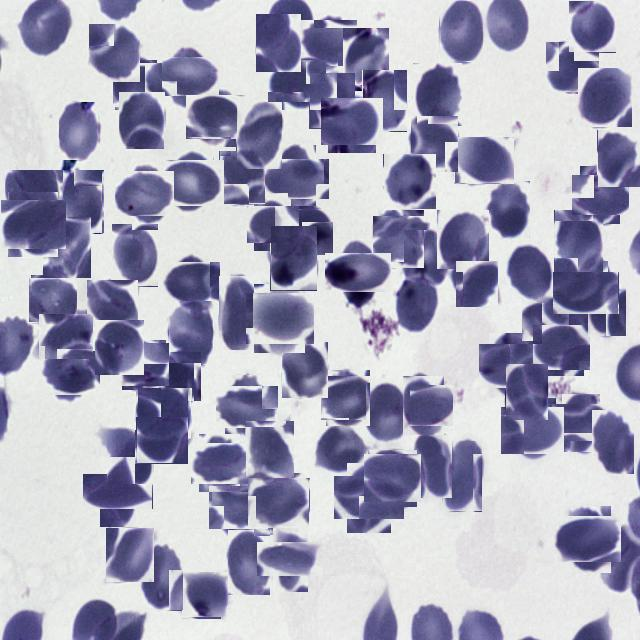red blood cell: (250, 288, 310, 348), (5, 170, 63, 232), (340, 469, 398, 526), (559, 511, 616, 568), (5, 196, 62, 253), (578, 68, 632, 127), (163, 155, 219, 211), (252, 476, 308, 532), (504, 402, 560, 458), (324, 94, 380, 150), (236, 102, 282, 170), (413, 63, 462, 126), (554, 210, 603, 273), (88, 24, 140, 83), (437, 210, 489, 269), (270, 226, 317, 291), (139, 542, 183, 611), (484, 338, 538, 393), (560, 266, 614, 321), (383, 154, 436, 210), (111, 224, 158, 287), (43, 217, 91, 278), (245, 421, 294, 480), (168, 301, 213, 365), (374, 212, 428, 265), (442, 441, 482, 512), (454, 137, 514, 184), (219, 276, 257, 350), (366, 452, 419, 505), (270, 152, 322, 206), (118, 168, 172, 220), (362, 70, 407, 132), (60, 170, 104, 233), (228, 528, 270, 594), (92, 465, 144, 518), (332, 247, 384, 300), (220, 380, 272, 432), (546, 41, 598, 93), (190, 92, 242, 144), (302, 16, 354, 68), (44, 348, 96, 400), (408, 118, 460, 170), (138, 389, 190, 441), (314, 425, 368, 475), (95, 320, 144, 375), (592, 410, 634, 474), (439, 1, 483, 62), (508, 244, 555, 301), (536, 321, 587, 373), (343, 28, 389, 85), (120, 92, 166, 149), (256, 14, 301, 72), (395, 274, 437, 336), (162, 52, 214, 102), (212, 482, 264, 532), (366, 383, 410, 442), (106, 528, 154, 582), (404, 230, 452, 284), (282, 342, 328, 398), (309, 73, 355, 129), (38, 314, 93, 360), (486, 181, 530, 238), (194, 438, 244, 488), (323, 373, 373, 423), (166, 258, 216, 308), (398, 380, 448, 430), (272, 56, 322, 106), (266, 534, 316, 584), (568, 1, 616, 53), (597, 130, 640, 188), (219, 150, 265, 204), (108, 430, 154, 484), (505, 364, 548, 421), (136, 417, 188, 464), (576, 170, 624, 220), (87, 280, 138, 327), (414, 435, 452, 498), (283, 208, 332, 256), (60, 102, 100, 160), (557, 399, 605, 447), (114, 61, 161, 108), (181, 572, 228, 619), (120, 342, 168, 388), (158, 352, 201, 402), (587, 282, 626, 337), (30, 276, 76, 322), (250, 202, 295, 247), (455, 262, 499, 306), (524, 300, 566, 344)
